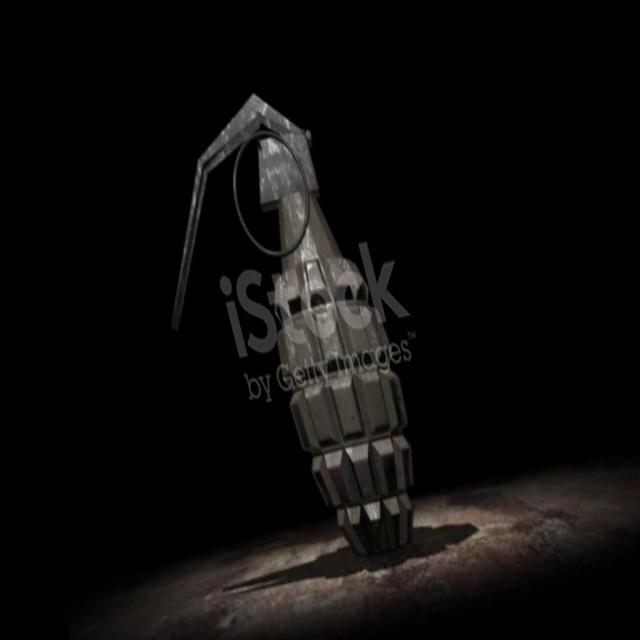grenade: (123, 66, 441, 588)
